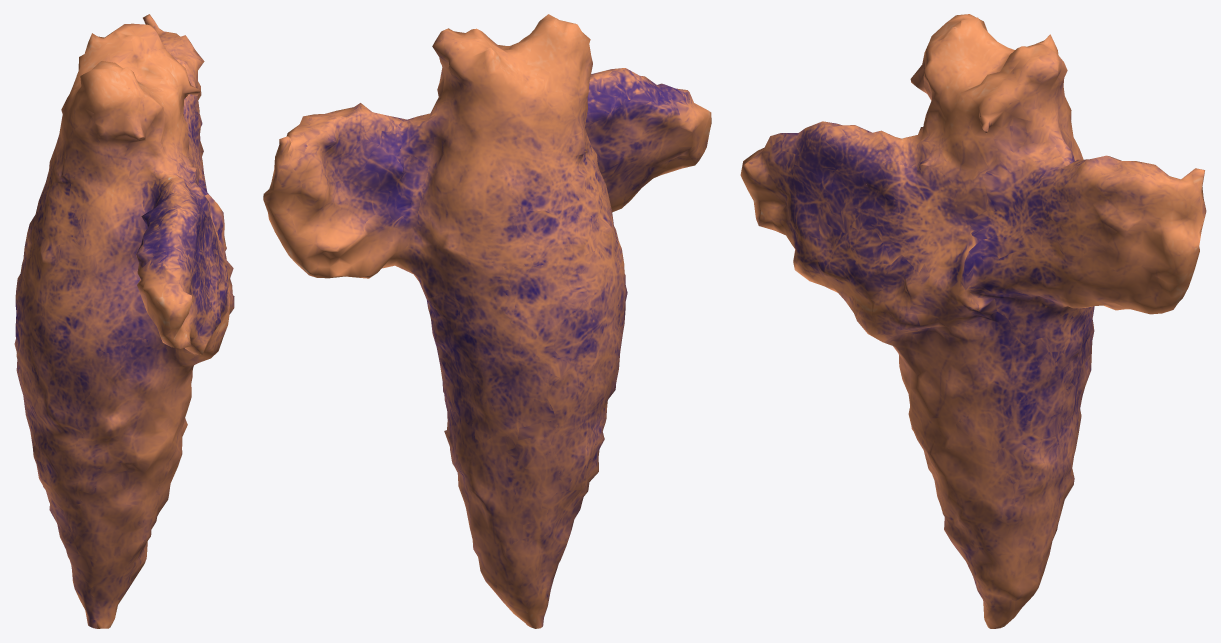
Rendered from clione3.fbx.
3 renders of one model, left to right at view 1: azimuth 30°, elevation 25°; view 2: azimuth 150°, elevation 25°; view 3: azimuth 270°, elevation 25°, orthographic. The views are drawn at different scales.
Visible parts, largest first — view 1: Réduction_de_polygones; view 2: Réduction_de_polygones; view 3: Réduction_de_polygones.
Boxes of the visible parts, <box> form: Réduction_de_polygones: <box>14,14,234,628</box>; Réduction_de_polygones: <box>263,14,711,628</box>; Réduction_de_polygones: <box>740,14,1206,628</box>.
Bounding box in the file's own units: 17.17 × 38.85 × 27.18.
1 material, 1 textured.
